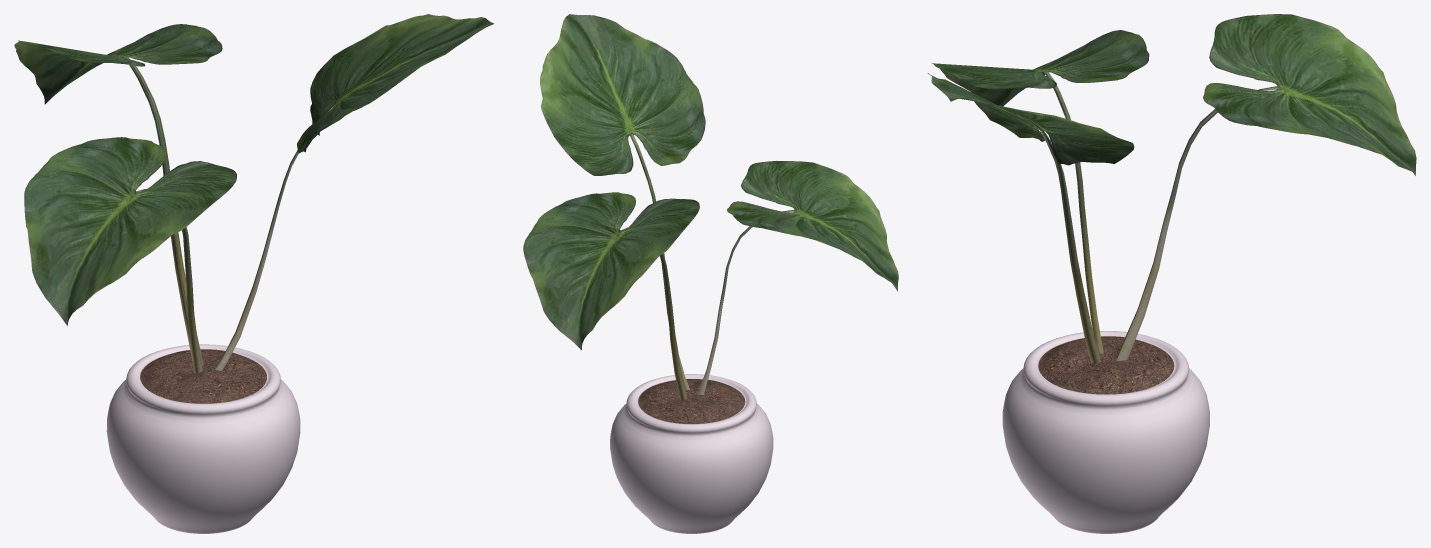
The model's file is plant.glb.
The picture shows the model from 3 angles, left to right: view 1: azimuth 30°, elevation 25°; view 2: azimuth 150°, elevation 25°; view 3: azimuth 270°, elevation 25°; orthographic projection. The views are drawn at different scales.
Visible parts, largest first — view 1: Plane_plant_0, Cylinder_FlowerPot_0, Cylinder_Soil_0; view 2: Plane_plant_0, Cylinder_FlowerPot_0, Cylinder_Soil_0; view 3: Plane_plant_0, Cylinder_FlowerPot_0, Cylinder_Soil_0.
Boxes of the visible parts, box(x1,y1,x2,y2) form: Plane_plant_0: box(14, 14, 494, 373); Cylinder_FlowerPot_0: box(106, 344, 300, 533); Cylinder_Soil_0: box(140, 349, 266, 403); Plane_plant_0: box(523, 14, 898, 400); Cylinder_FlowerPot_0: box(610, 374, 773, 533); Cylinder_Soil_0: box(638, 379, 745, 423); Plane_plant_0: box(927, 14, 1416, 363); Cylinder_FlowerPot_0: box(1002, 331, 1209, 533); Cylinder_Soil_0: box(1038, 336, 1174, 394).
Size of the model in its own units: 0.9602 by 1.08 by 0.906.
3 materials, 2 textured.
